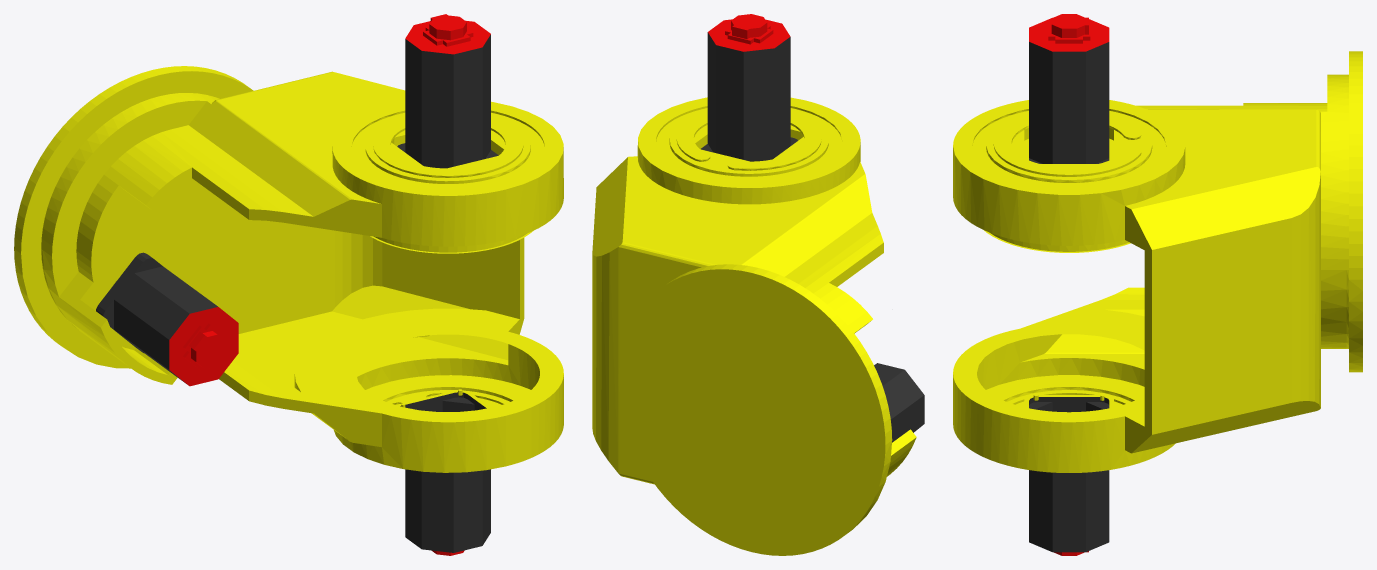
3 views of the same model, side by side, from view 1: azimuth 30°, elevation 25°; view 2: azimuth 150°, elevation 25°; view 3: azimuth 270°, elevation 25° (orthographic). The views are drawn at different scales.
Parts seen in each view (by area): view 1: node; view 2: node; view 3: node.
Part boxes in pixels (box(x1,y1,x2,y2)): node: box(14, 14, 563, 555); node: box(592, 14, 924, 555); node: box(953, 14, 1362, 555).
Bounding box in the file's own units: 1004 × 1244 × 876.
